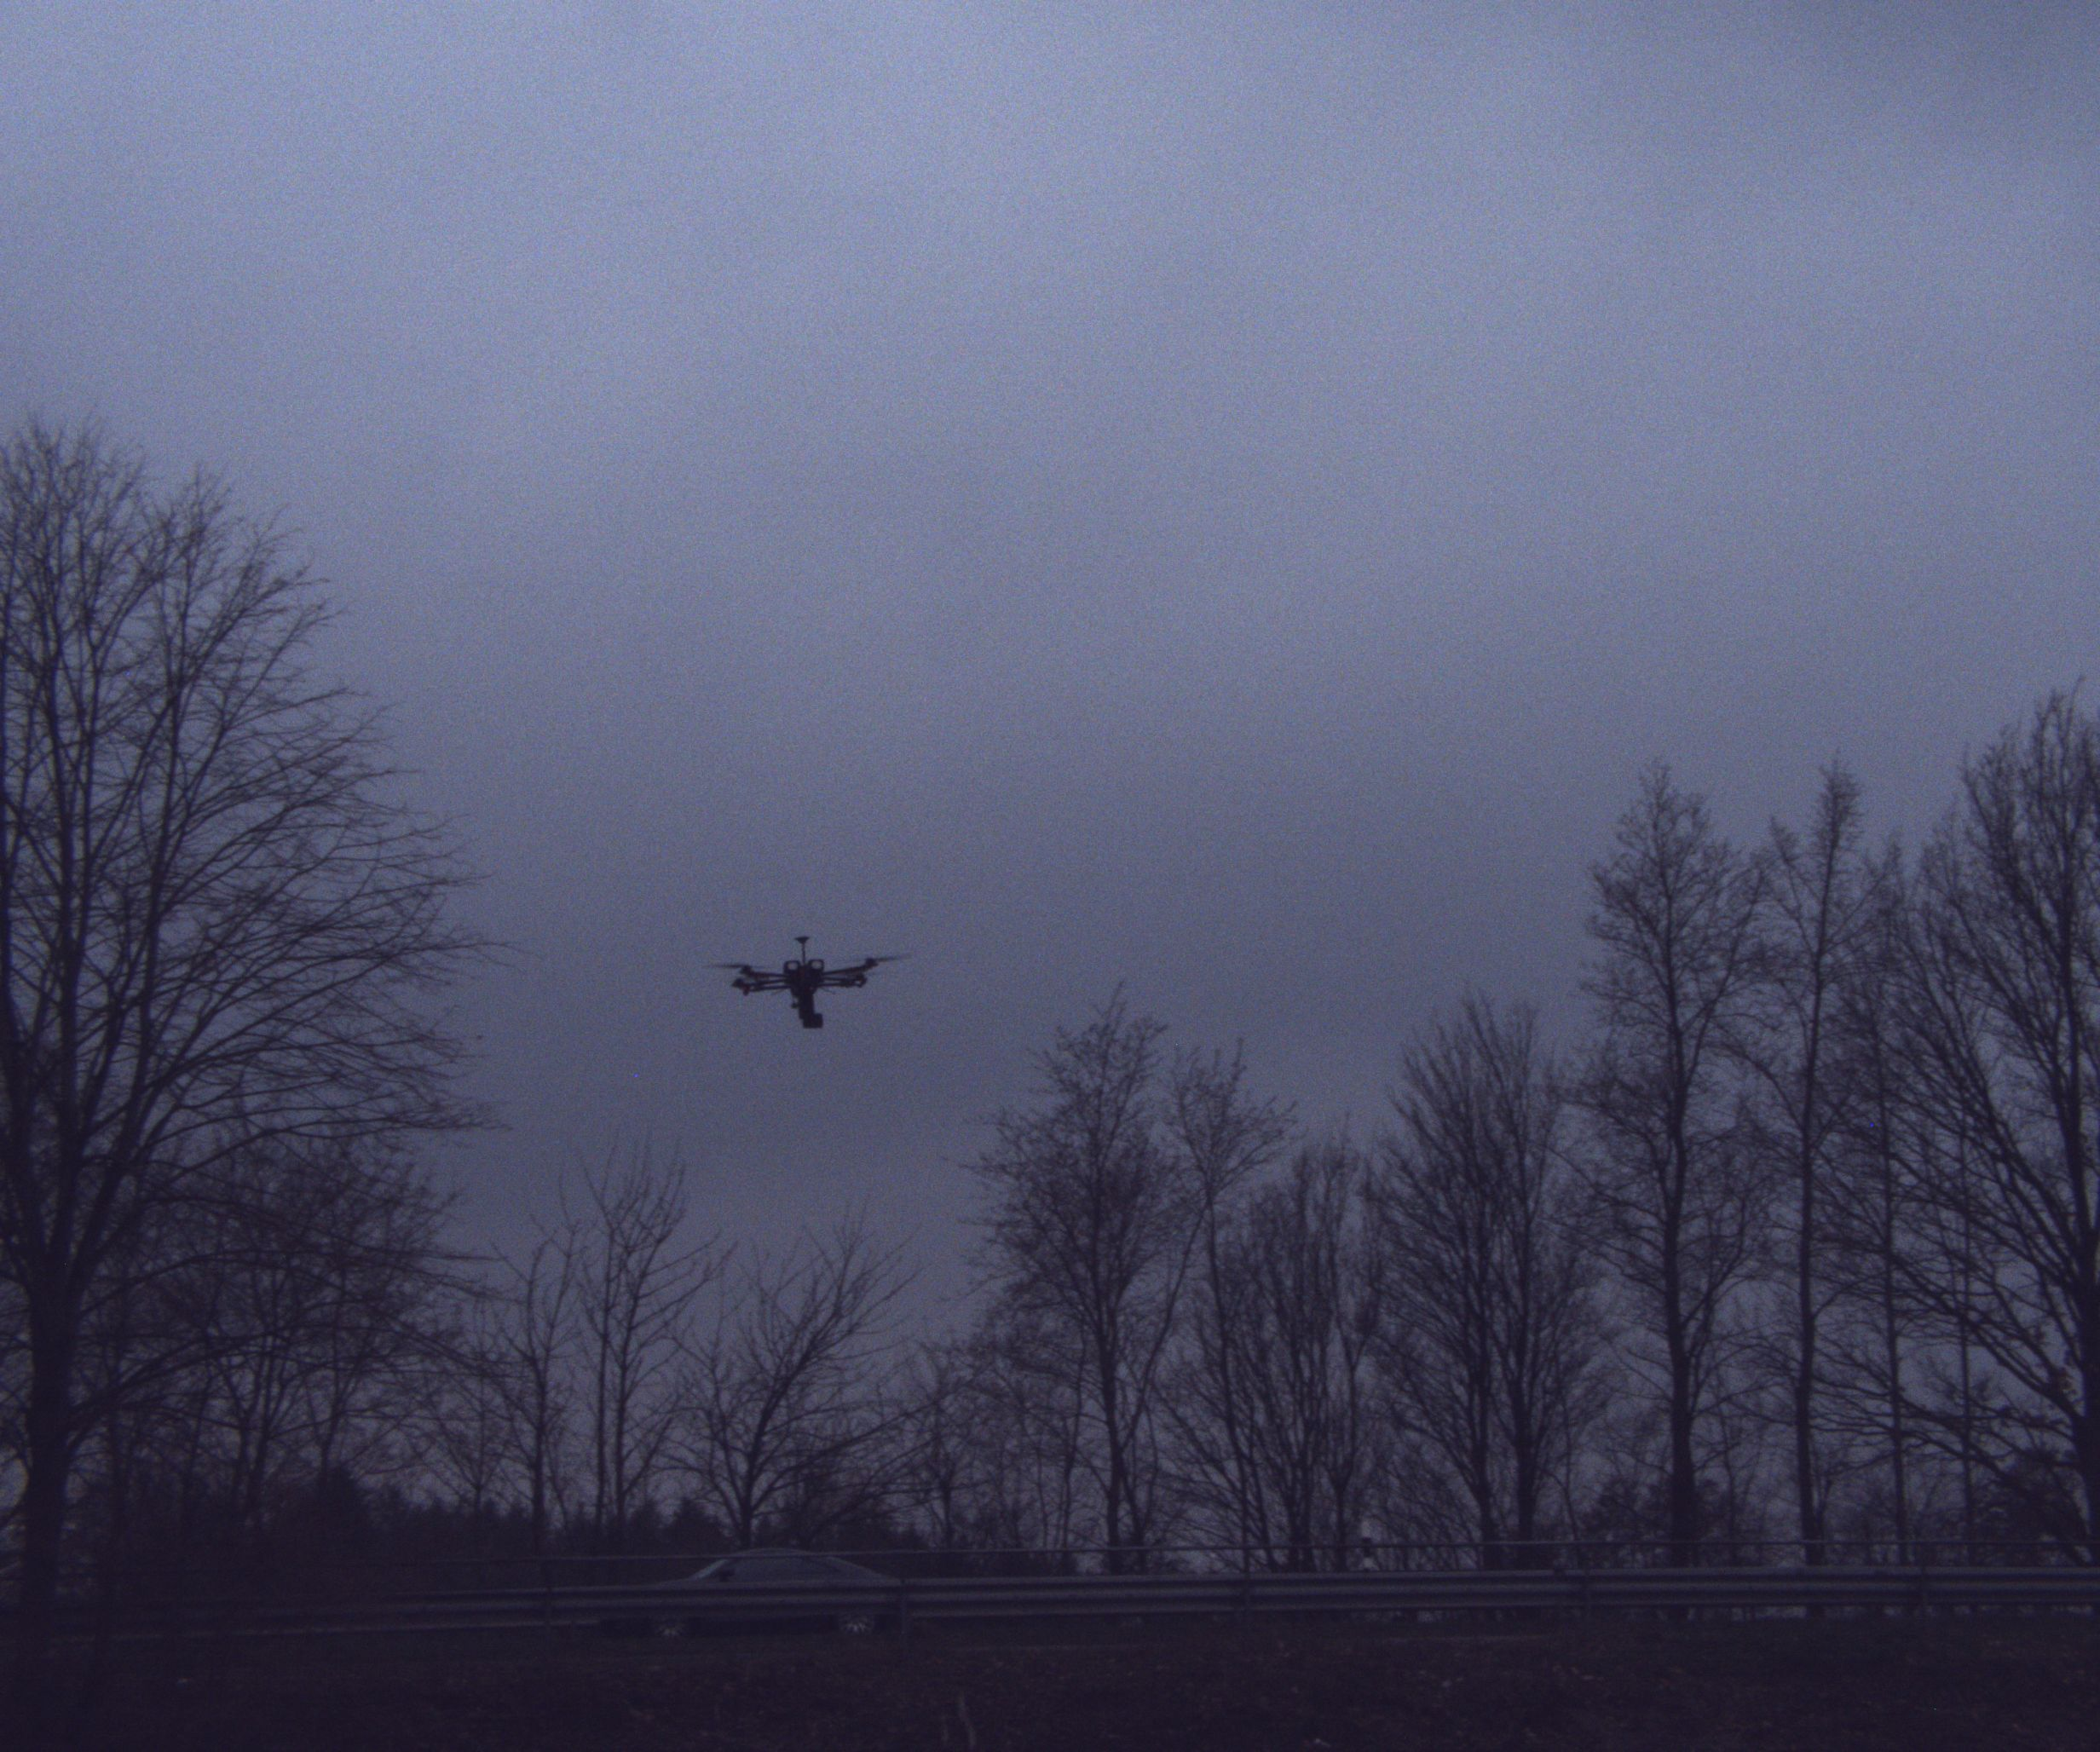Drohne: (684, 920, 1043, 1063)
